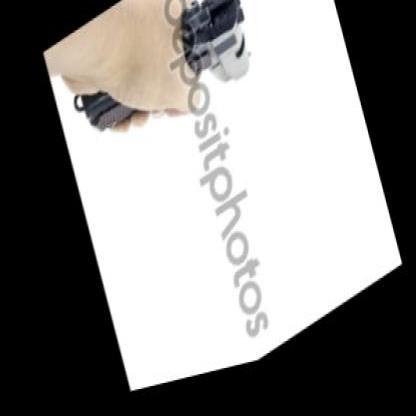pistol: (61, 0, 260, 192)
